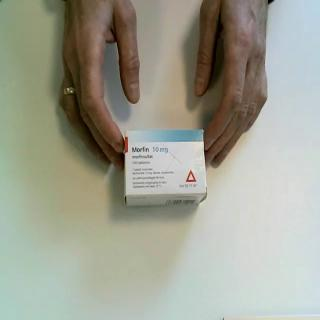morfin10mg: (123, 128, 209, 208)
